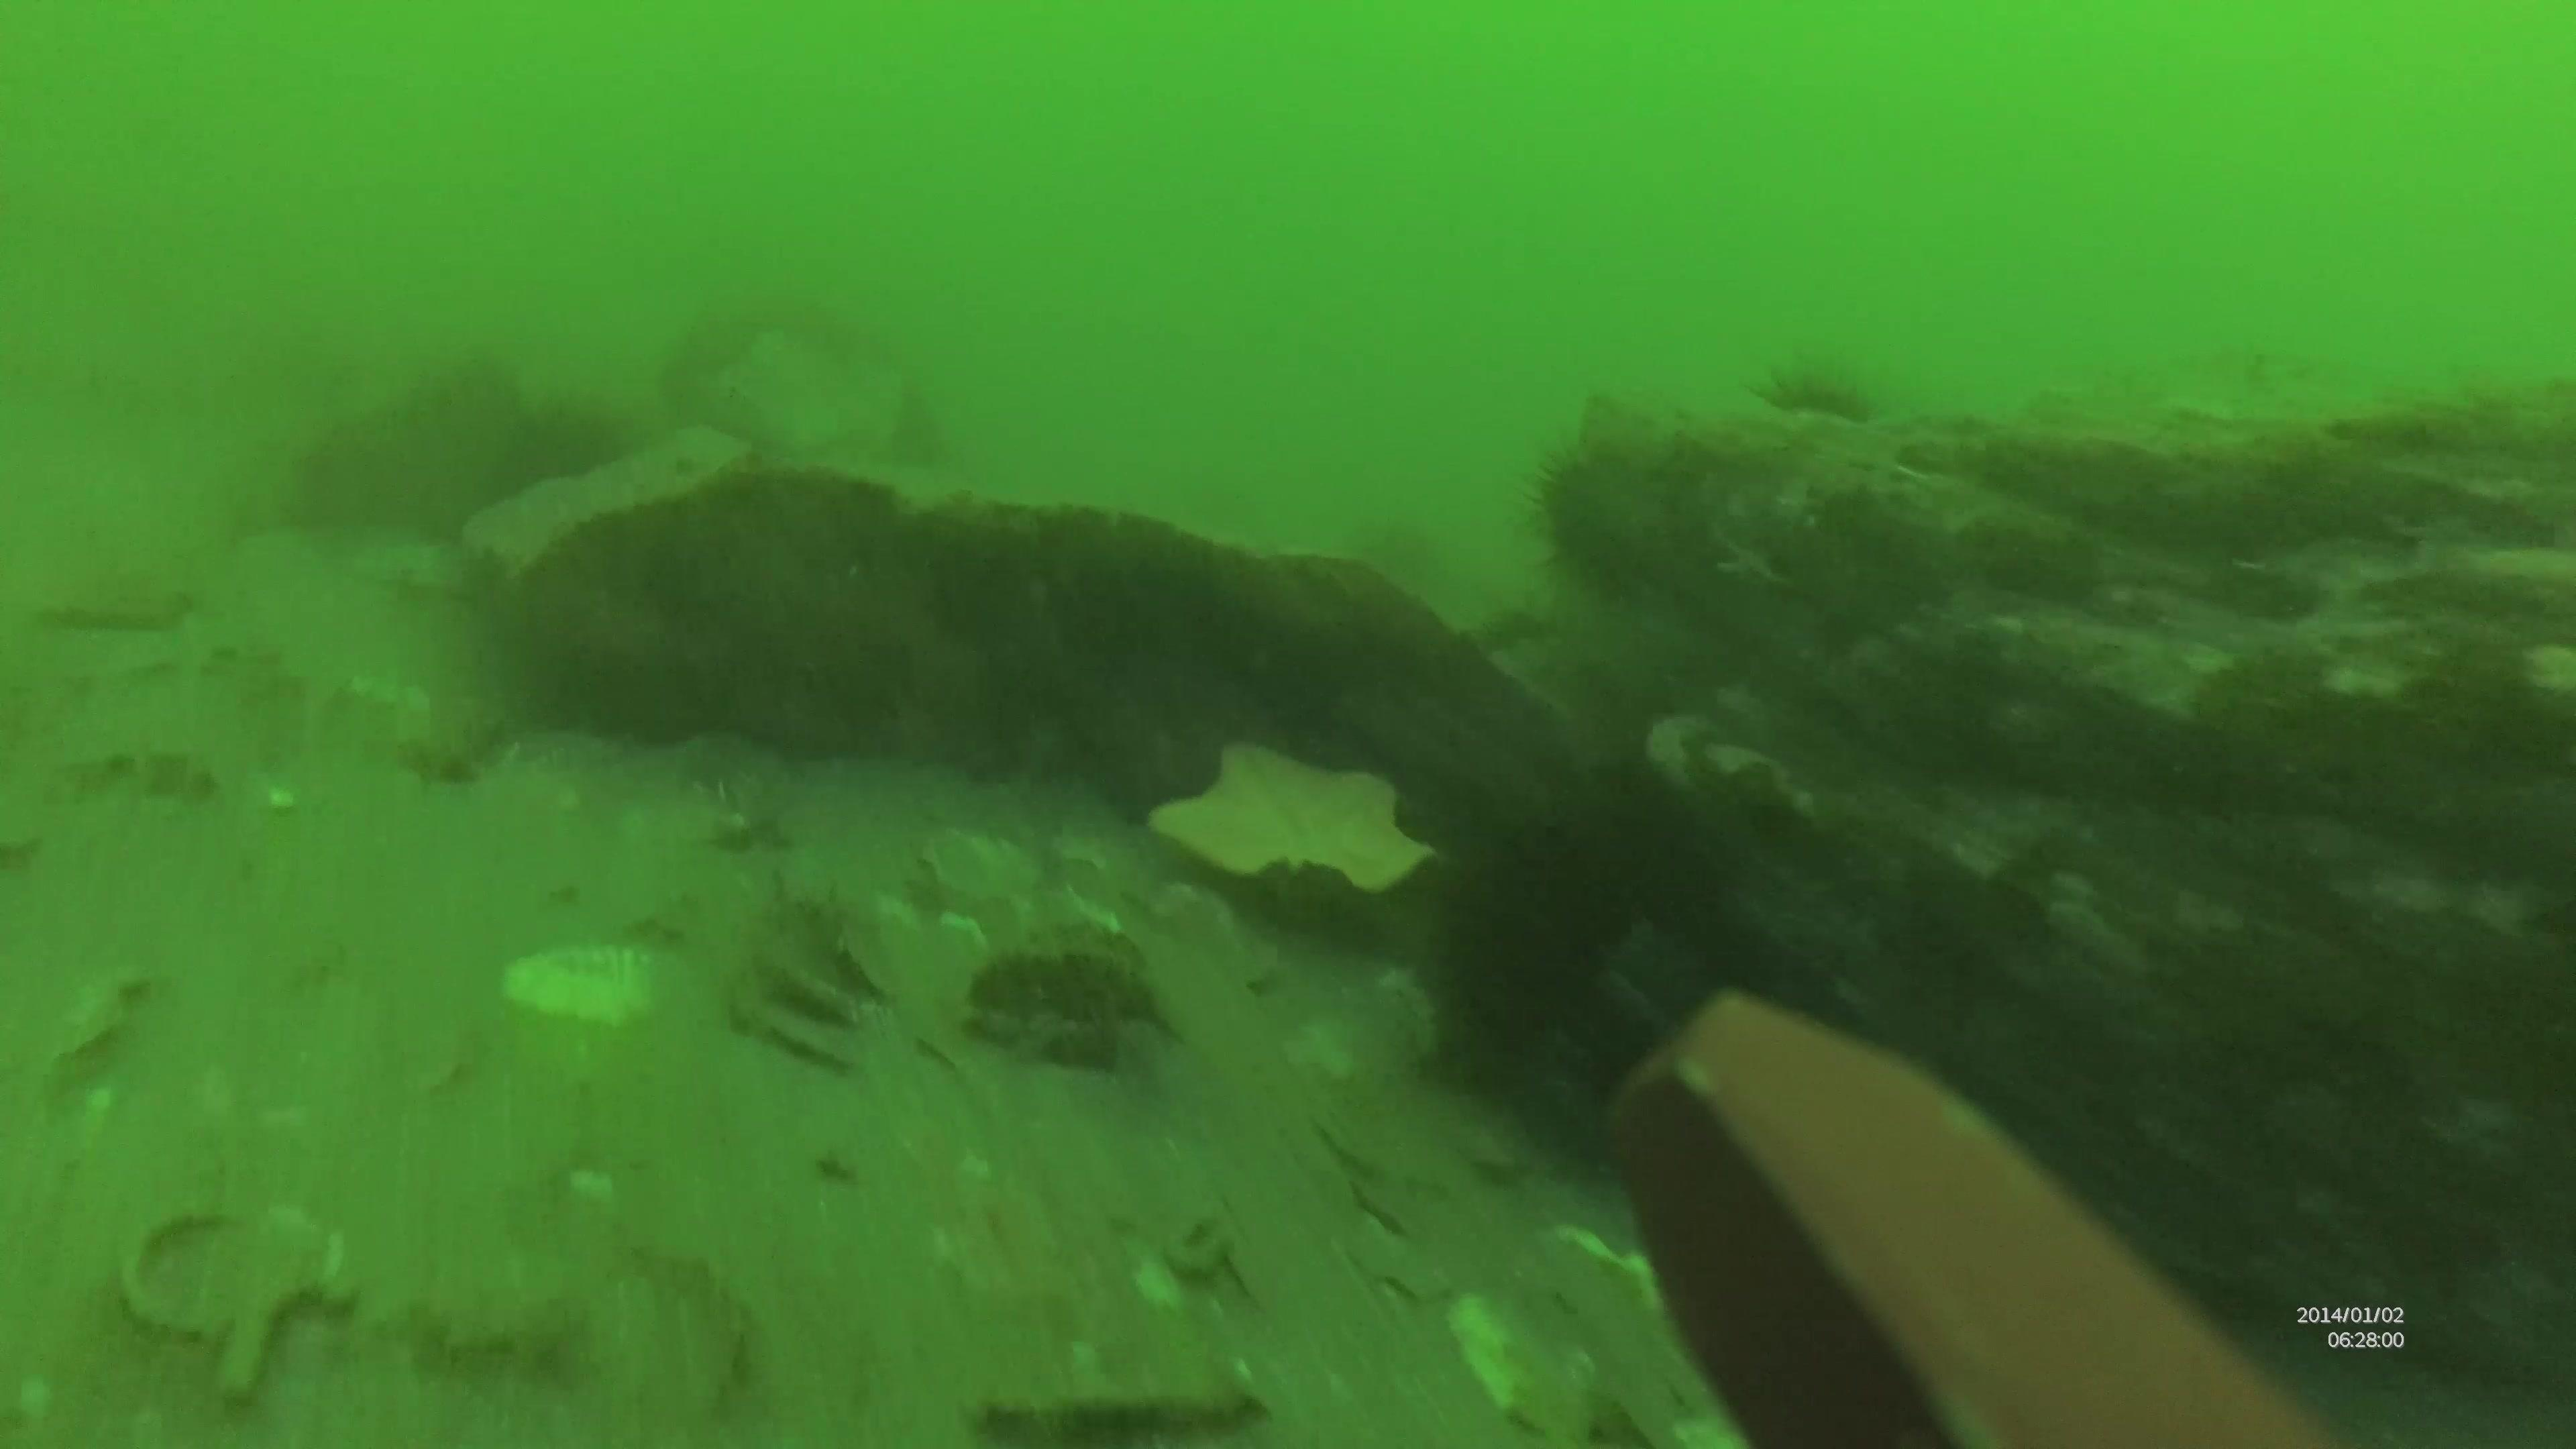echinus: (1433, 770, 1721, 1076), (1532, 444, 1640, 600), (1752, 364, 1890, 432)
